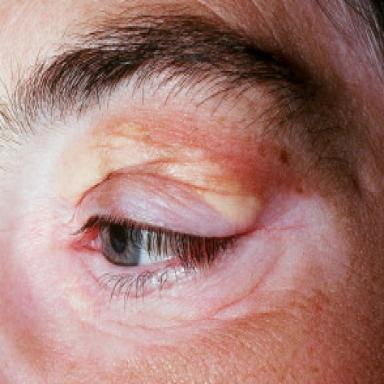Lupus-Erythematosus-Chronicus-Discoides: (95, 194, 346, 343)
